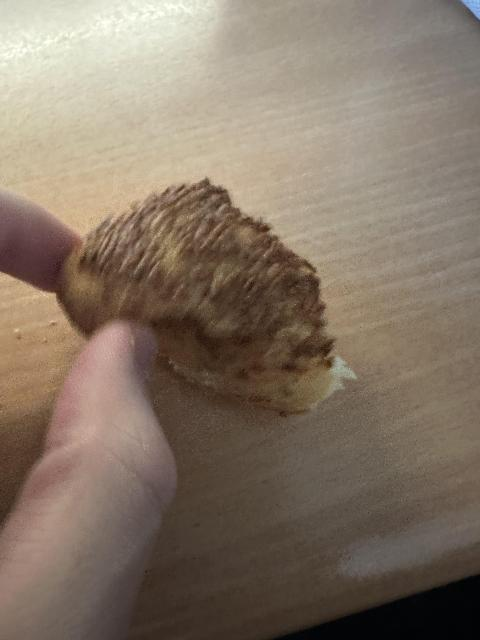Organik: (51, 197, 351, 414)
